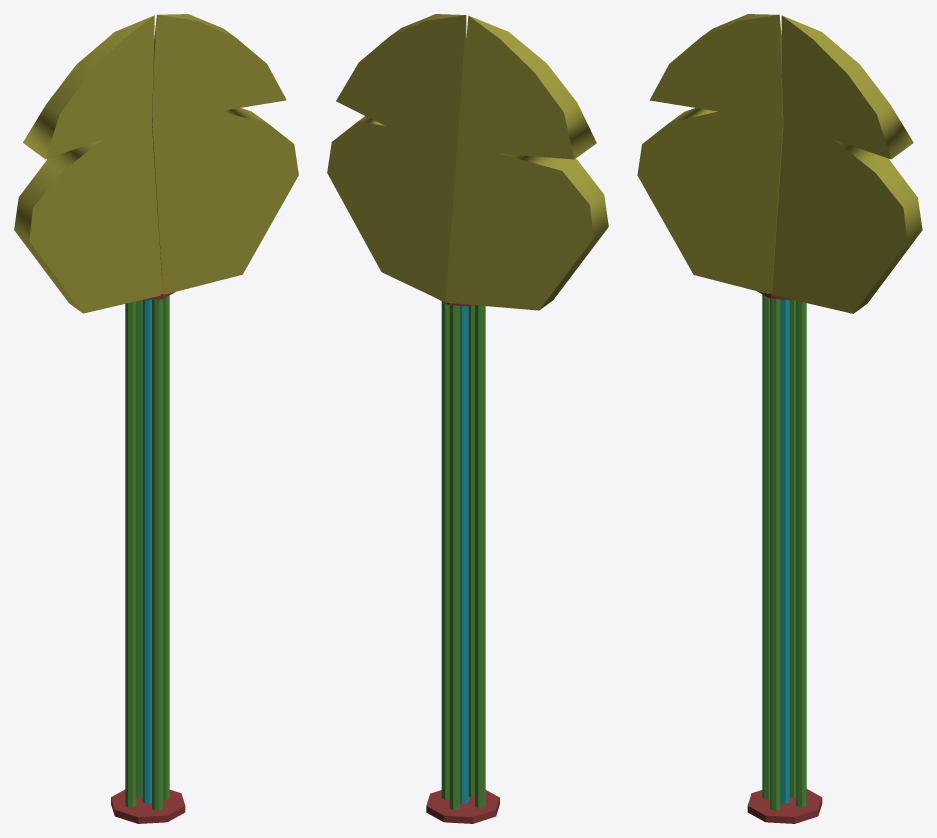
Rendered from palaFBX.fbx.
The picture shows the model from 3 angles, left to right: view 1: azimuth 30°, elevation 25°; view 2: azimuth 150°, elevation 25°; view 3: azimuth 330°, elevation 25°; orthographic projection.
Parts seen in each view (by area): view 1: punta, tuboExterior2, tuboExterior3, tuboInterior, tuboExterior, tuboExterior4, tapaInferior; view 2: punta, tuboExterior4, tuboExterior2, tuboInterior, tuboExterior, tuboExterior3, tapaInferior; view 3: punta, tuboExterior3, tuboExterior, tuboInterior, tuboExterior2, tuboExterior4, tapaInferior.
Part boxes in pixels (bbox=[...]): punta: bbox=[14, 14, 298, 313]; tuboExterior2: bbox=[125, 301, 136, 807]; tuboExterior3: bbox=[152, 299, 162, 810]; tuboInterior: bbox=[142, 300, 151, 803]; tuboExterior: bbox=[163, 295, 169, 799]; tuboExterior4: bbox=[136, 300, 142, 797]; tapaInferior: bbox=[111, 789, 185, 823]; punta: bbox=[327, 14, 608, 310]; tuboExterior4: bbox=[449, 305, 460, 809]; tuboExterior2: bbox=[475, 305, 485, 807]; tuboInterior: bbox=[460, 305, 468, 803]; tuboExterior: bbox=[441, 301, 449, 799]; tuboExterior3: bbox=[468, 305, 474, 796]; tapaInferior: bbox=[426, 790, 499, 823]; punta: bbox=[637, 14, 922, 313]; tuboExterior3: bbox=[770, 298, 780, 810]; tuboExterior: bbox=[796, 300, 806, 807]; tuboInterior: bbox=[780, 299, 789, 803]; tuboExterior2: bbox=[762, 294, 769, 799]; tuboExterior4: bbox=[790, 300, 795, 797]; tapaInferior: bbox=[747, 789, 822, 823].
Bounding box in the file's own units: 28 × 79.11 × 6.93.
